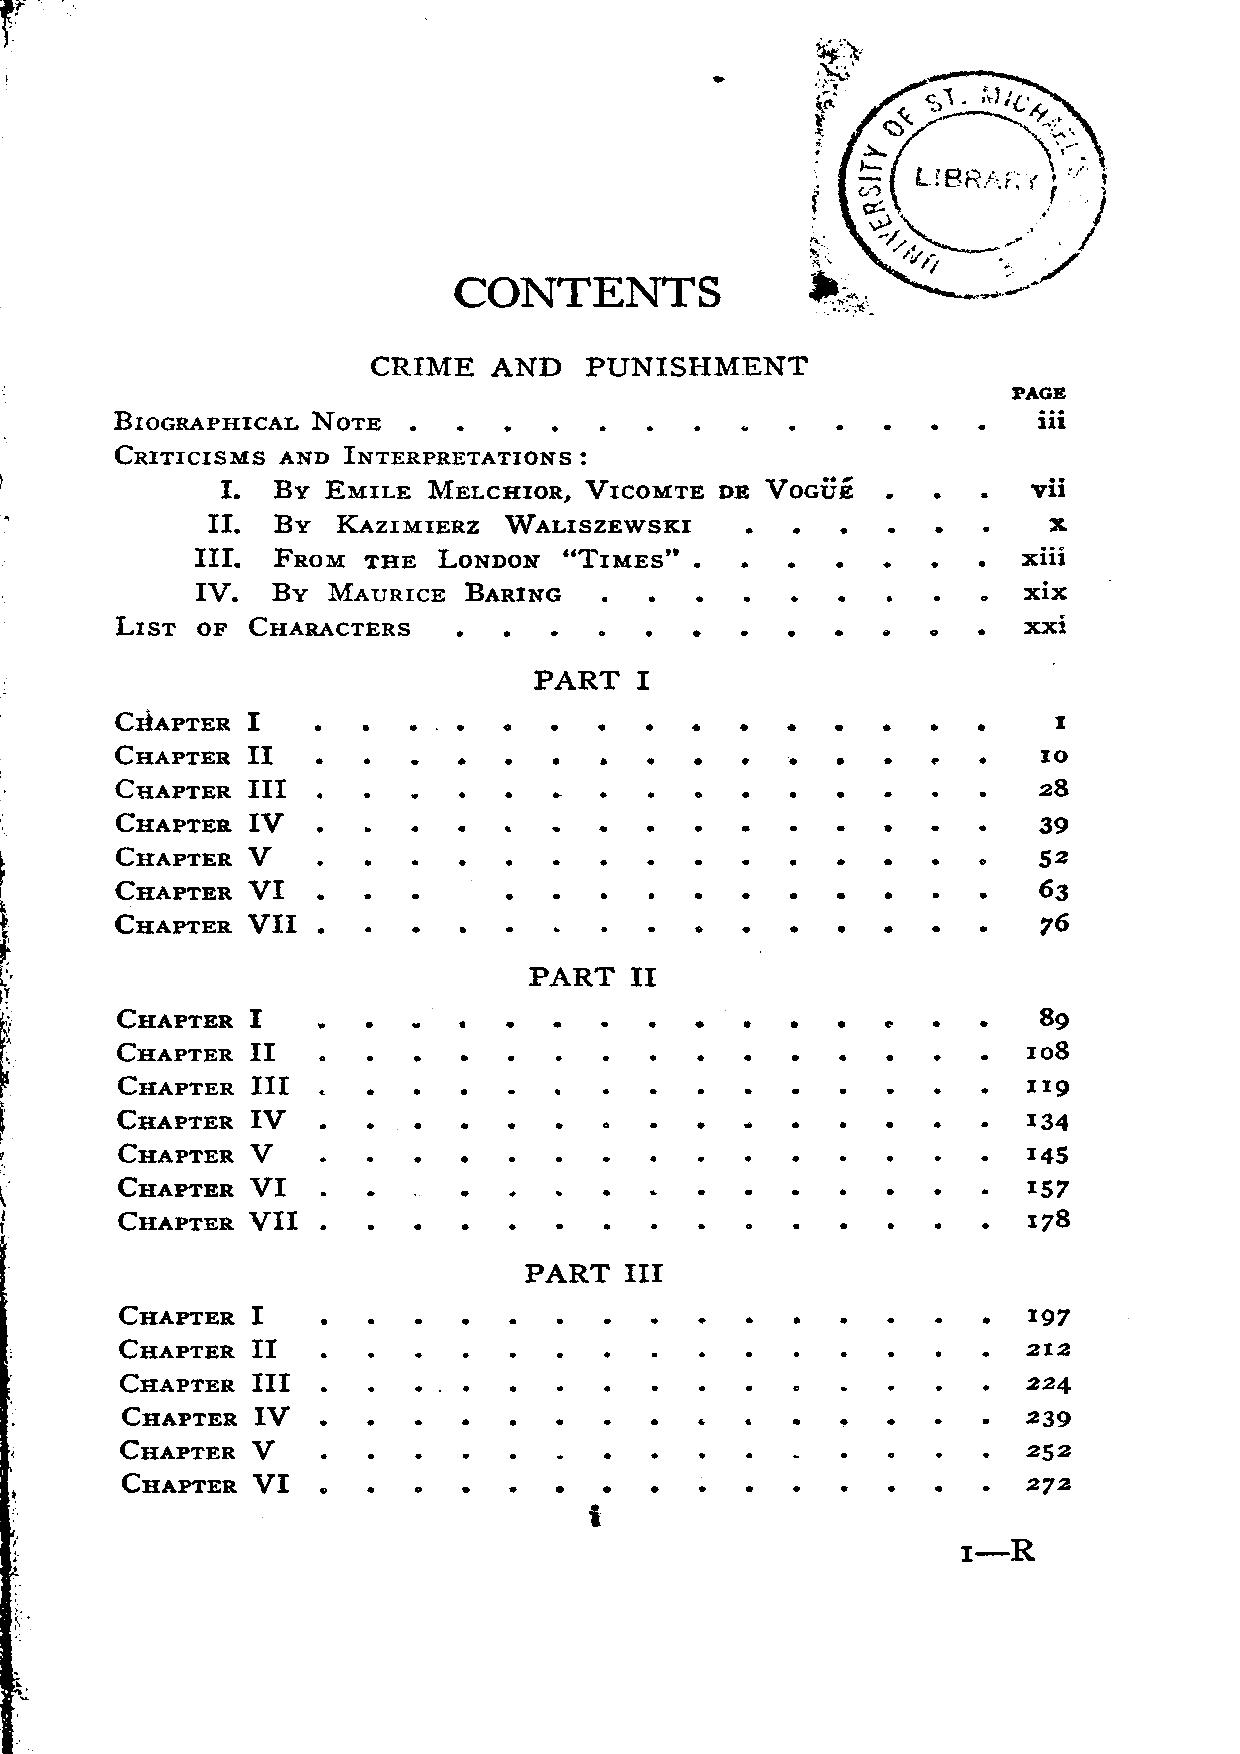TOC_chapter: (215, 476, 859, 501), (193, 544, 679, 570), (111, 442, 590, 468), (203, 509, 691, 534), (370, 354, 811, 377), (191, 578, 564, 605), (114, 612, 412, 637), (111, 407, 382, 433), (113, 774, 291, 801), (115, 741, 272, 770), (115, 1071, 291, 1096), (114, 1173, 290, 1198), (111, 809, 283, 835), (119, 1468, 290, 1494), (118, 1435, 278, 1461), (117, 1370, 293, 1394), (113, 913, 298, 935), (115, 1002, 264, 1031), (115, 1106, 289, 1130), (115, 1337, 279, 1362), (523, 961, 664, 990), (115, 1141, 278, 1166), (115, 1209, 302, 1231), (118, 1404, 293, 1427), (115, 1039, 279, 1063), (113, 709, 267, 734), (521, 1260, 664, 1286), (111, 844, 271, 867), (115, 1304, 266, 1329), (111, 879, 287, 899), (530, 666, 652, 691)
TOC_pagenumber: (1025, 1404, 1074, 1431), (1020, 544, 1071, 568), (1023, 577, 1070, 603), (1021, 1472, 1076, 1494), (1023, 1206, 1070, 1231), (1027, 1372, 1074, 1396), (1023, 1439, 1072, 1461), (1025, 1337, 1072, 1359), (1027, 1037, 1071, 1062), (1027, 1108, 1071, 1133), (1027, 1304, 1072, 1327), (1021, 612, 1070, 633), (1036, 910, 1072, 938), (1027, 1176, 1066, 1201), (1025, 1076, 1070, 1098), (1033, 407, 1068, 433), (1027, 476, 1067, 498), (1027, 1143, 1070, 1164), (1037, 813, 1072, 837), (1037, 776, 1074, 798), (1037, 1007, 1070, 1032), (1037, 845, 1071, 870), (1039, 876, 1070, 900), (1039, 746, 1070, 766), (1045, 515, 1068, 535), (1051, 709, 1066, 730)
chapter: (454, 271, 725, 306)
